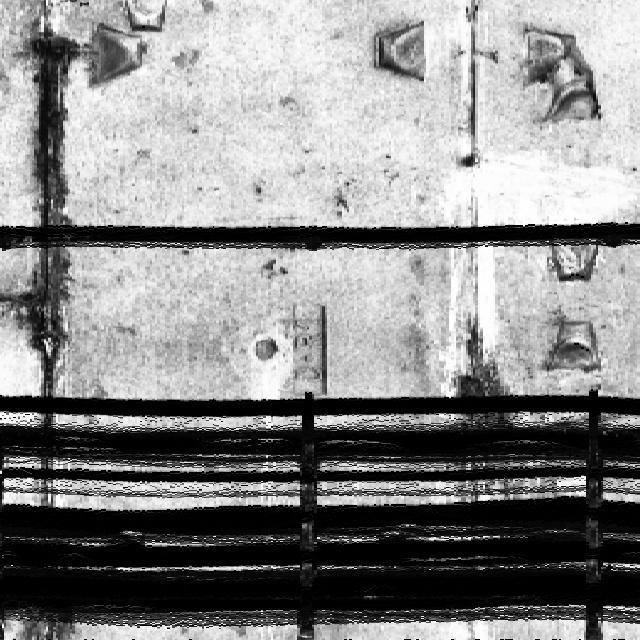leakage: (2, 22, 95, 419), (436, 314, 519, 396), (9, 614, 86, 639)
